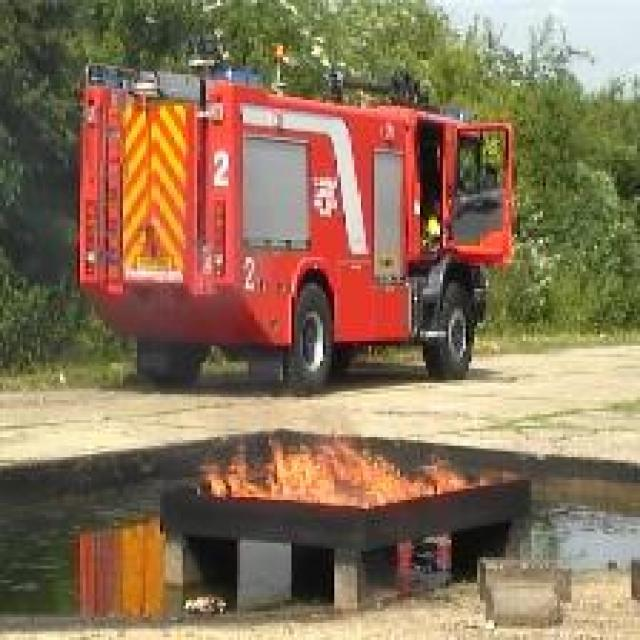Fire: (192, 433, 518, 513)
